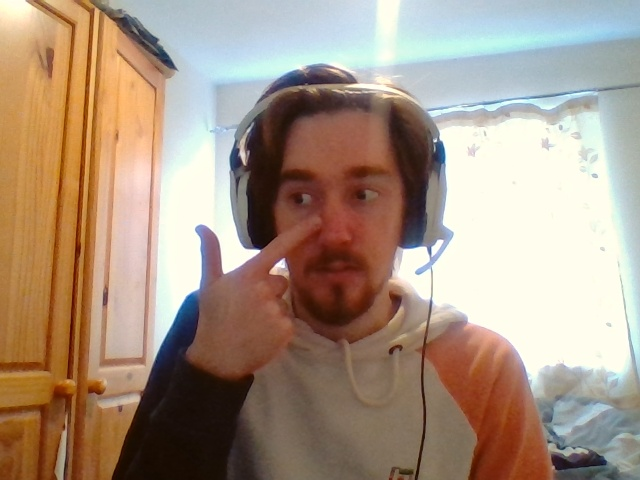luck: (194, 213, 322, 353)
